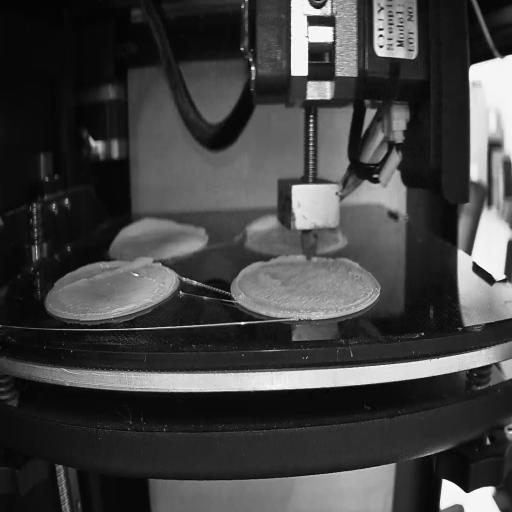over_extrusion: (236, 252, 304, 314), (59, 252, 152, 291), (110, 214, 207, 248), (243, 214, 278, 241), (330, 254, 360, 270)
